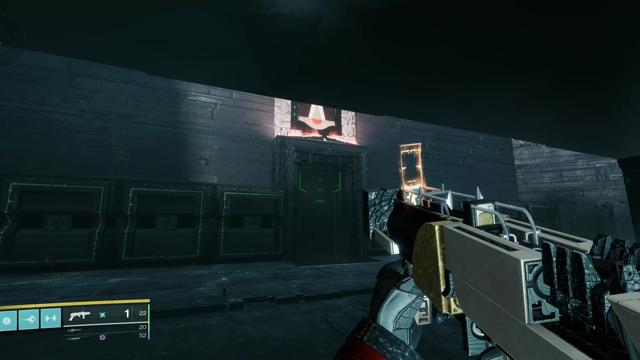enter: (298, 102, 336, 130)
